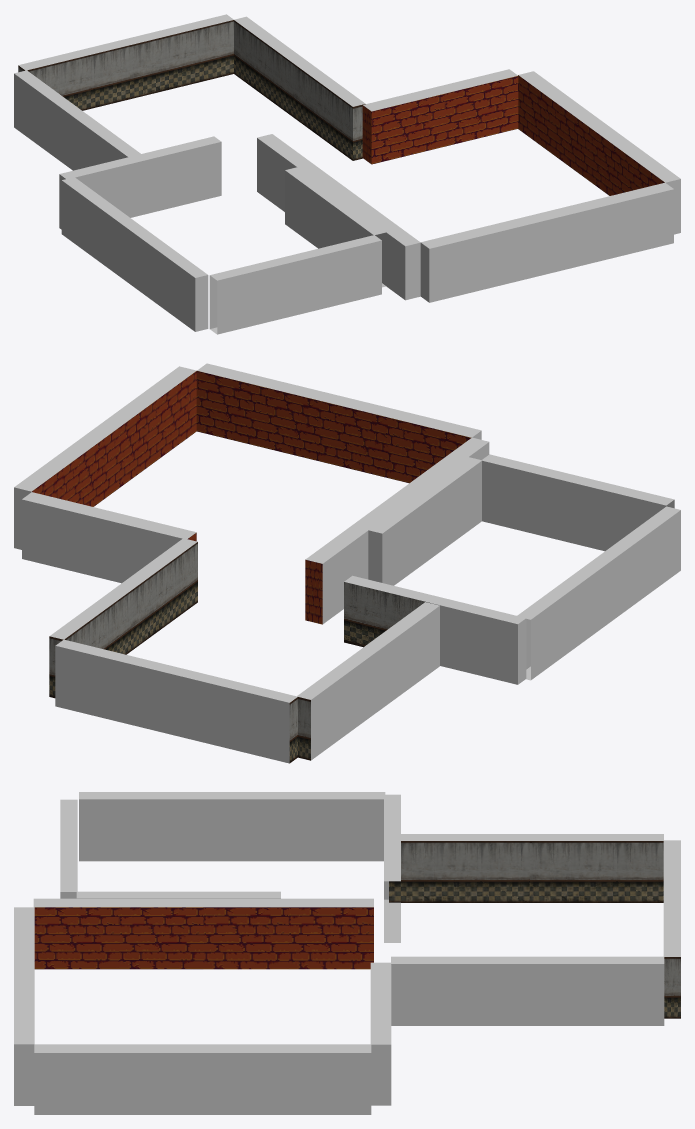
Rendered from WallREMODELEDFixV2.fbx.
3 renders of one model, top to bottom at view 1: azimuth 30°, elevation 25°; view 2: azimuth 150°, elevation 25°; view 3: azimuth 270°, elevation 25°, orthographic. The views are drawn at different scales.
Visible parts, largest first — view 1: Cube.010; view 2: Cube.010; view 3: Cube.010.
Part boxes in pixels (<box>): Cube.010: <box>14,14,680,334</box>; Cube.010: <box>14,363,680,763</box>; Cube.010: <box>14,792,680,1114</box>.
Bounding box in the file's own units: 7221 × 805 × 7812.
